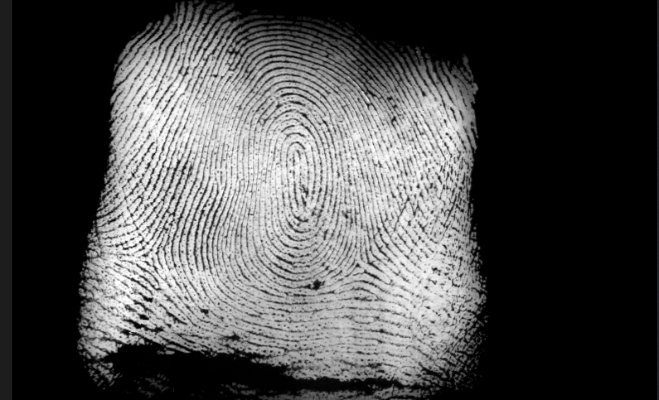nucelo: (287, 141, 310, 208)
verticilo: (131, 246, 162, 271), (344, 253, 372, 275)
